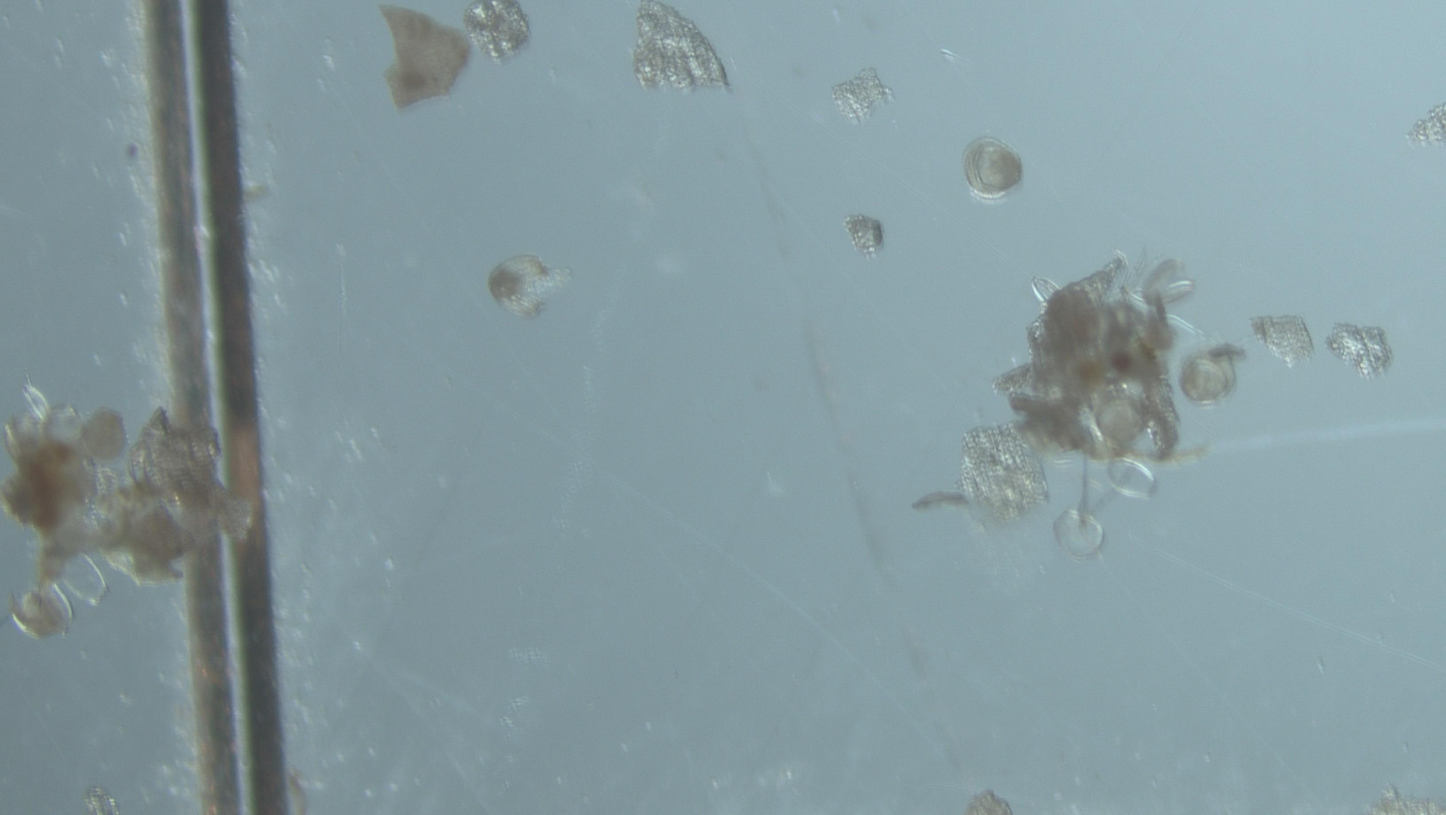dead: (1054, 508, 1104, 559), (1096, 394, 1143, 448), (1143, 259, 1195, 306), (62, 553, 107, 605), (1107, 459, 1156, 499)
live: (489, 255, 571, 318), (963, 137, 1023, 202), (1181, 344, 1244, 405), (11, 583, 71, 639), (82, 408, 125, 460)
